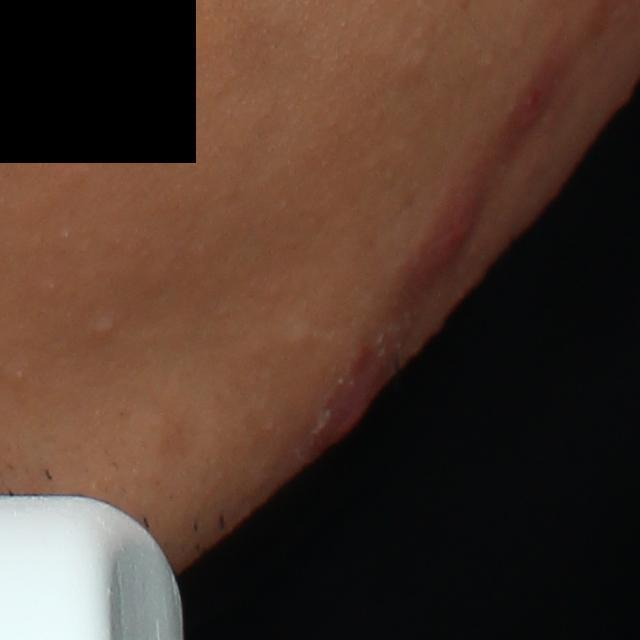comedo: (91, 309, 120, 341), (402, 46, 433, 74), (11, 365, 26, 382)
papule: (407, 184, 494, 293), (324, 357, 387, 449), (509, 83, 557, 138)
